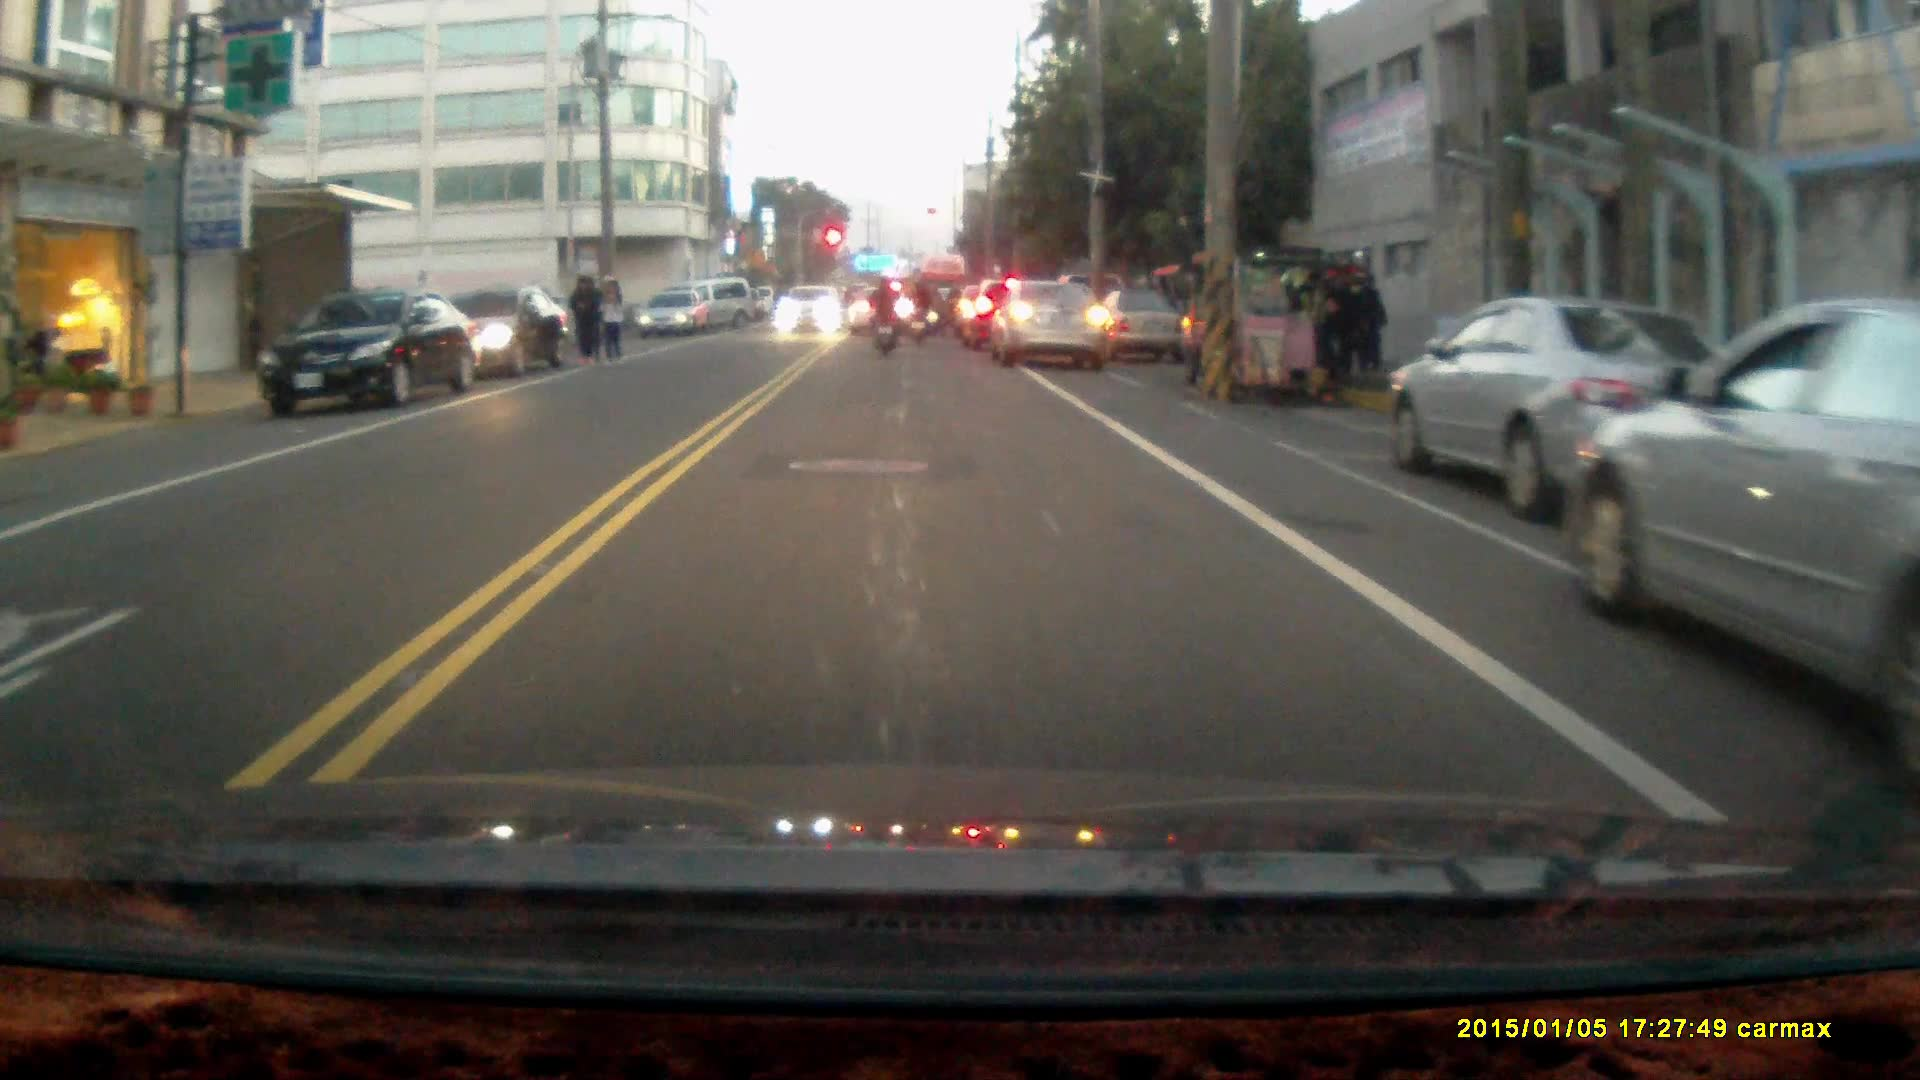pedestrian: (1349, 271, 1389, 383), (566, 272, 603, 369), (600, 275, 626, 366)
rider: (866, 275, 900, 359), (902, 277, 932, 345)
vehicle: (1570, 297, 1920, 770), (1382, 298, 1774, 525), (253, 285, 484, 418), (1176, 258, 1374, 413), (446, 287, 577, 380), (994, 284, 1112, 376), (641, 293, 717, 344), (777, 288, 848, 341)
